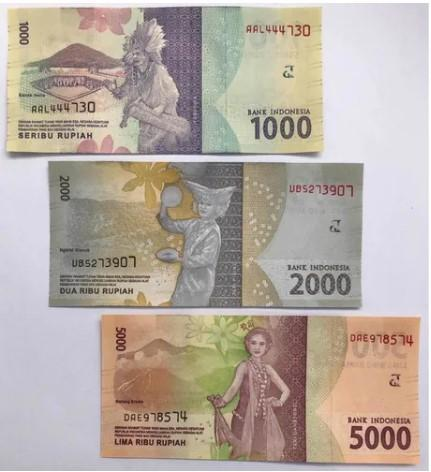1000IndonesianRupiah: (4, 5, 320, 150)
